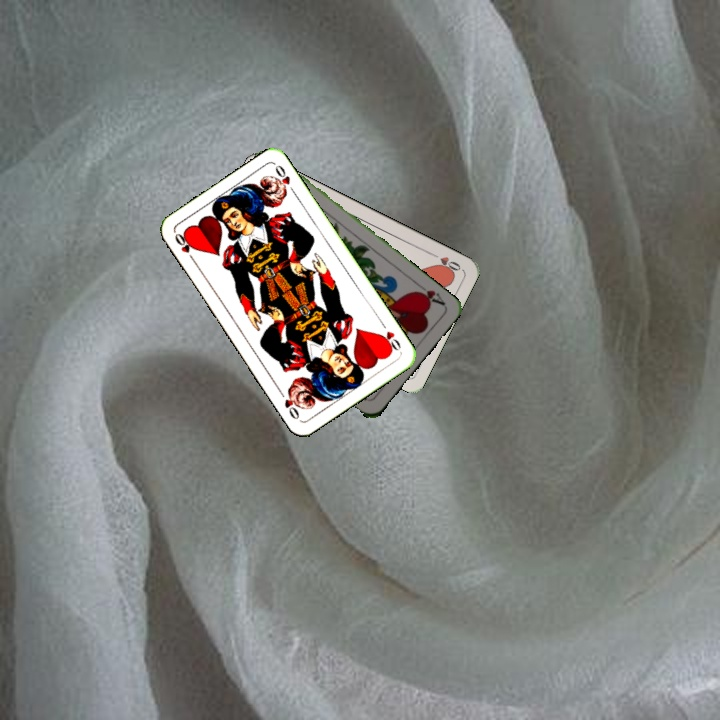HA: (411, 279, 447, 308)
HO: (376, 318, 404, 354), (170, 229, 198, 265), (426, 249, 463, 275)
